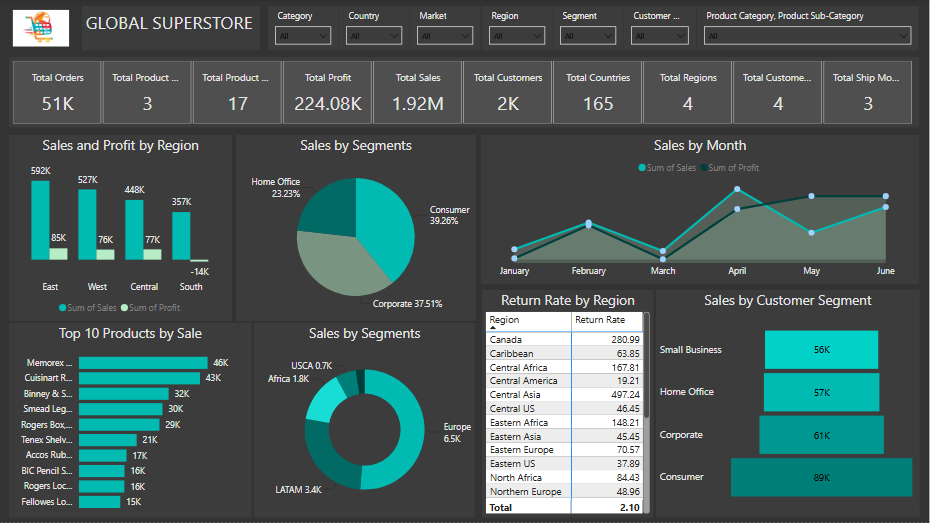

This screenshot's page, from the dashboard's own definition file:
{"tool":"powerbi","page":{"name":"Page 1","canvas":[1280,720],"ordinal":0},"visuals":[{"type":"textbox","box":[113.8,9.7,245.1,61.3],"z":0},{"type":"slicer","fields":{"Values":["Orders.Category"]},"box":[369.6,9.7,97.3,61.3],"z":1000},{"type":"slicer","fields":{"Values":["Orders.Country"]},"box":[467.8,9.7,97.3,61.3],"z":2000},{"type":"slicer","fields":{"Values":["Orders.Market"]},"box":[566.1,9.7,97.3,61.3],"z":3000},{"type":"slicer","fields":{"Values":["Orders (2).Region"]},"box":[664.3,9.7,97.3,61.3],"z":4000},{"type":"slicer","fields":{"Values":["Orders.Segment"]},"box":[762.6,9.7,97.3,61.3],"z":5000},{"type":"slicer","fields":{"Values":["Orders (2).Customer Segment"]},"box":[860.8,9.7,99.2,61.3],"z":6000},{"type":"slicer","fields":{"Values":["Orders (2).Product Category","Orders (2).Product Sub-Category"]},"box":[961,9.7,305.4,61.3],"z":7000},{"type":"cardVisual","fields":{"Data":["Orders (2).Total Orders","Orders (2).Total Product Categories","Orders (2).Total Product Sub-Categories","Orders (2).Total Profit","Orders (2).Total Sales","Orders (2).Total Customers","Orders (2).Total Countries","Orders (2).Total Regions","Orders (2).Total Customer Segments","Orders (2).Total Ship Modes"]},"box":[13.6,79.8,1252.8,97.3],"z":8000},{"type":"image","box":[13.6,9.7,87.5,61.3],"z":9000},{"type":"lineChart","title":"Sales by Month","fields":{"Y":["Sum(Orders (2).Sales)"],"Category":["Orders (2).Order Date.Variation.Date Hierarchy.Month"],"Y2":["Sum(Orders (2).Profit)"]},"box":[663.3,186.7,603,205.2],"z":10000},{"type":"clusteredColumnChart","title":"Sales and Profit by Region","fields":{"Y":["Sum(Orders (2).Sales)","Sum(Orders (2).Profit)"],"Category":["Orders (2).Region"]},"box":[13.6,186.7,307.4,255.8],"z":11000},{"type":"barChart","title":"Top 10 Products by Sale","fields":{"Category":["Orders.Product Name"],"Y":["Sum(Orders (2).Sales)"]},"box":[13.6,445.5,333.6,268.4],"z":12000},{"type":"funnel","title":"Sales by Customer Segment","fields":{"Y":["Sum(Orders (2).Sales)"],"Category":["Orders (2).Customer Segment"]},"box":[903.6,400.7,362.8,313.2],"z":13000},{"type":"pieChart","title":"Sales by Segments","fields":{"Category":["Orders.Segment"],"Y":["Sum(Orders (2).Sales)"]},"box":[325.8,186.7,329.7,255.8],"z":14000},{"type":"donutChart","title":"Sales by Segments","fields":{"Category":["Orders.Market"],"Y":["Sum(Orders.Profit)"]},"box":[351.1,445.5,304.4,268.4],"z":15000},{"type":"pivotTable","title":"Return Rate by Region","fields":{"Rows":["Orders.Region"],"Values":["Divide(Returns.Return Rate, ScopedEval(Returns.Return Rate, []))"]},"box":[664.3,400.7,236.4,313.2],"z":16000}]}

Visuals, with their boxes in screenshot pixels (x1, y1, x2, y2), scaled from the page's 1280x720 canvas onto the 930x523 screenshot:
textbox: <region>83, 7, 261, 52</region>
slicer - Orders.Category: <region>269, 7, 339, 52</region>
slicer - Orders.Country: <region>340, 7, 411, 52</region>
slicer - Orders.Market: <region>411, 7, 482, 52</region>
slicer - Orders (2).Region: <region>483, 7, 553, 52</region>
slicer - Orders.Segment: <region>554, 7, 625, 52</region>
slicer - Orders (2).Customer Segment: <region>625, 7, 698, 52</region>
slicer - Orders (2).Product Category x Orders (2).Product Sub-Category: <region>698, 7, 920, 52</region>
cardVisual - Orders (2).Total Orders x Orders (2).Total Product Categories: <region>10, 58, 920, 129</region>
image: <region>10, 7, 73, 52</region>
"Sales by Month" lineChart: <region>482, 136, 920, 285</region>
"Sales and Profit by Region" clusteredColumnChart: <region>10, 136, 233, 321</region>
"Top 10 Products by Sale" barChart: <region>10, 324, 252, 519</region>
"Sales by Customer Segment" funnel: <region>657, 291, 920, 519</region>
"Sales by Segments" pieChart: <region>237, 136, 476, 321</region>
"Sales by Segments" donutChart: <region>255, 324, 476, 519</region>
"Return Rate by Region" pivotTable: <region>483, 291, 654, 519</region>
